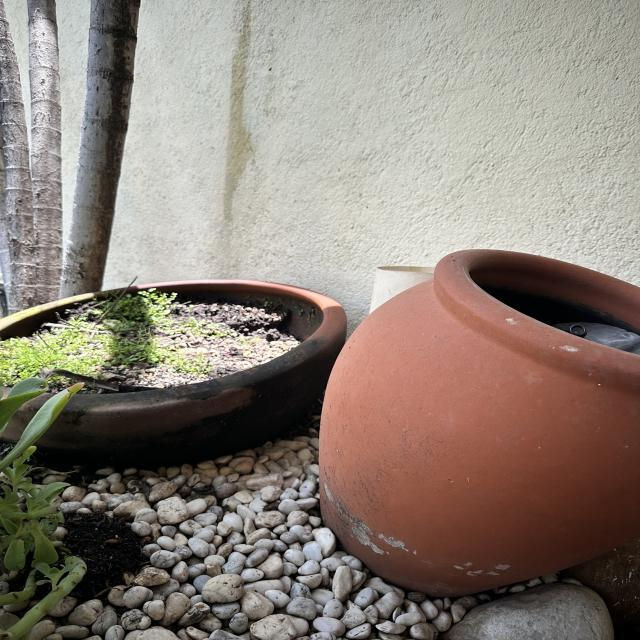hidden camera: (570, 324, 587, 336)
